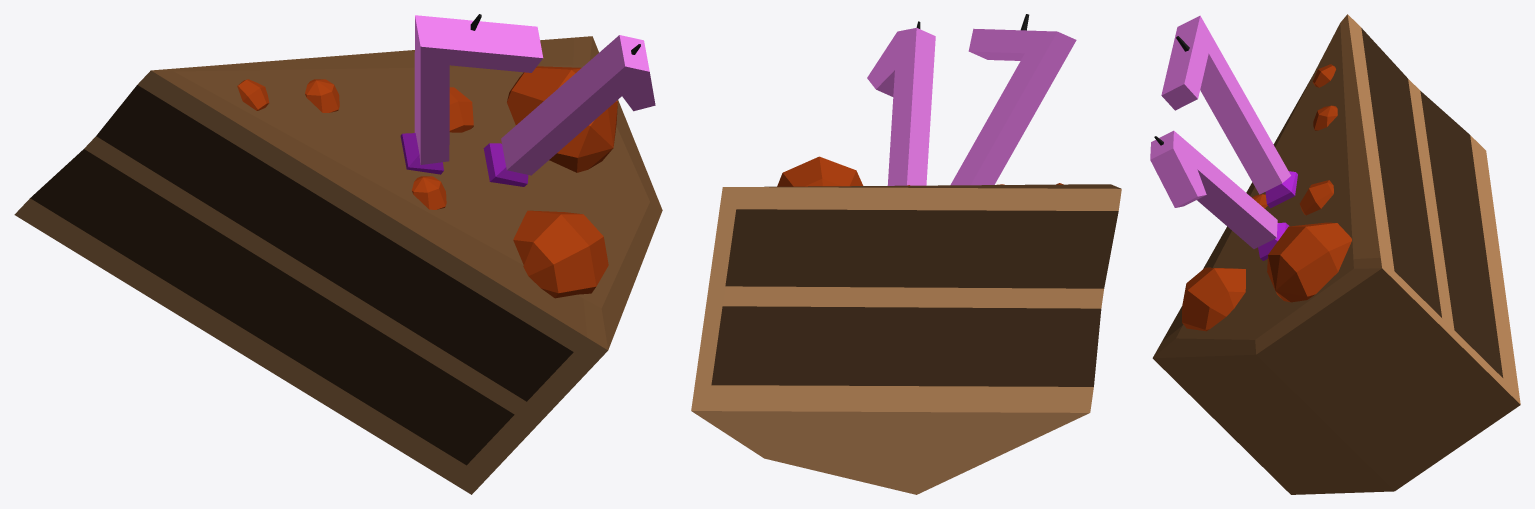
Rendered from DoveCake_Consu.glb.
The picture shows the model from 3 angles, left to right: view 1: azimuth 30°, elevation 25°; view 2: azimuth 150°, elevation 25°; view 3: azimuth 270°, elevation 25°; orthographic projection. The views are drawn at different scales.
Visible parts, largest first — view 1: cakeSlice; view 2: cakeSlice; view 3: cakeSlice.
Boxes of the visible parts, left/top/right/bottom form: cakeSlice: left=14, top=14, right=662, bottom=494; cakeSlice: left=691, top=14, right=1121, bottom=494; cakeSlice: left=1150, top=14, right=1520, bottom=494.
Bounding box in the file's own units: 0.2537 × 0.2599 × 0.2005.
Materials: 1 (1 with a texture image).
